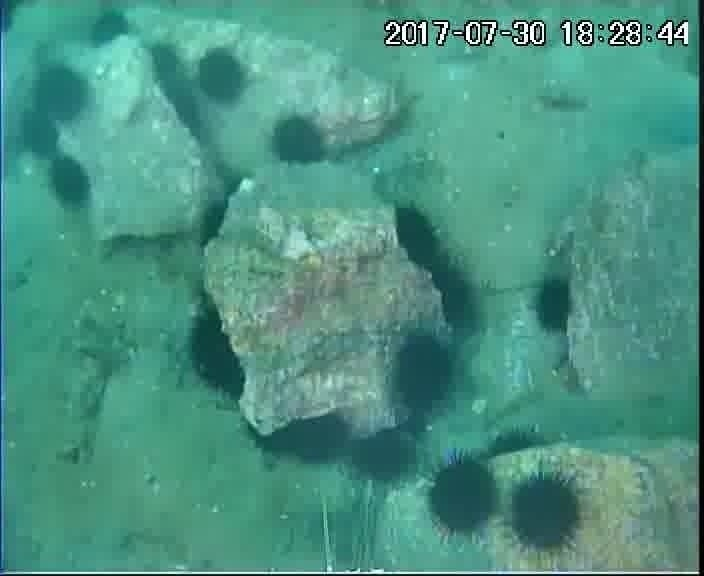echinus: (502, 467, 589, 559), (422, 453, 502, 540), (385, 327, 462, 417), (183, 306, 250, 403), (260, 407, 355, 470), (421, 259, 483, 337), (347, 424, 420, 489), (387, 202, 448, 277), (28, 60, 94, 127), (266, 111, 331, 172), (192, 45, 252, 109), (156, 80, 211, 146), (528, 273, 579, 337), (43, 154, 97, 214), (483, 424, 549, 466), (191, 193, 236, 253), (15, 108, 65, 161), (82, 7, 135, 54), (142, 39, 189, 91)
